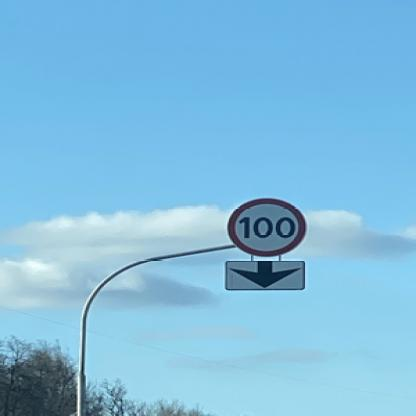Speed Limit 100: (229, 197, 308, 255)
